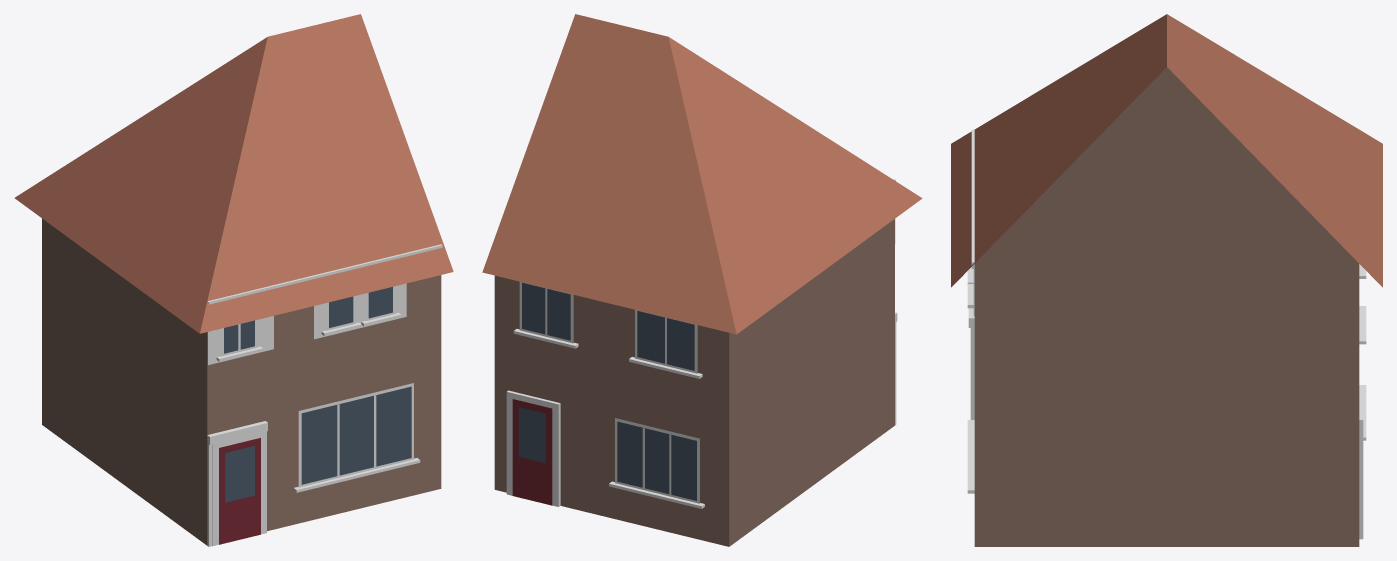
The model's file is nn-band__panels__2__hip__long__solid__endL.glb.
3 views of the same model, side by side, from view 1: azimuth 30°, elevation 25°; view 2: azimuth 150°, elevation 25°; view 3: azimuth 270°, elevation 25° (orthographic). The views are drawn at different scales.
Visible parts, largest first — view 1: nn-band__panels__2__hip__long__solid__endL; view 2: nn-band__panels__2__hip__long__solid__endL; view 3: nn-band__panels__2__hip__long__solid__endL.
Boxes of the visible parts, left/top/right/bottom form: nn-band__panels__2__hip__long__solid__endL: left=14, top=14, right=453, bottom=546; nn-band__panels__2__hip__long__solid__endL: left=482, top=14, right=922, bottom=546; nn-band__panels__2__hip__long__solid__endL: left=951, top=14, right=1382, bottom=546.
Bounding box in the file's own units: 5.76 × 8.97 × 7.29.
